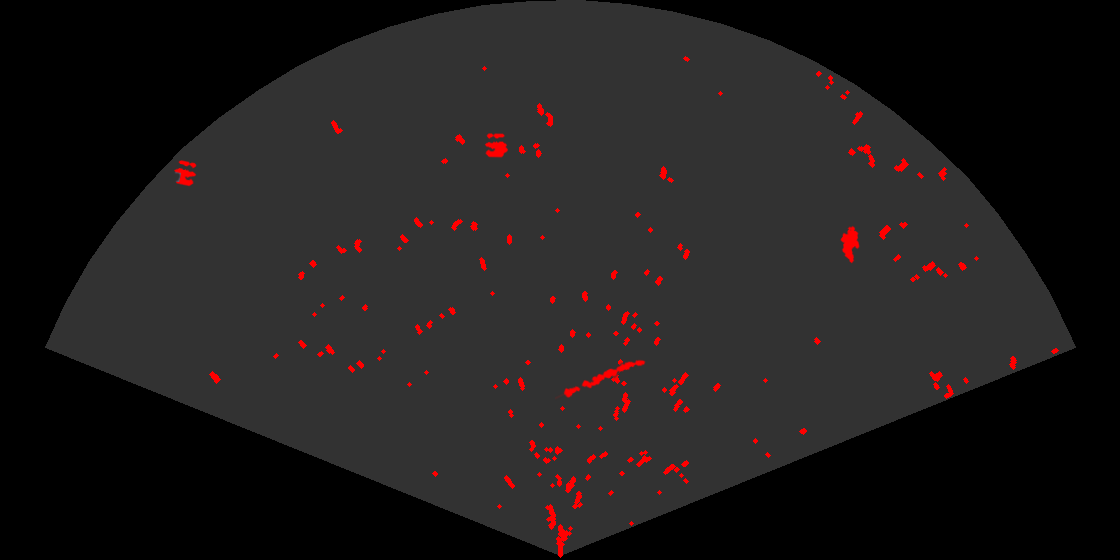AUV: (839, 224, 861, 265)
ball: (172, 159, 198, 188), (483, 132, 509, 159)
chain: (555, 358, 647, 401)
